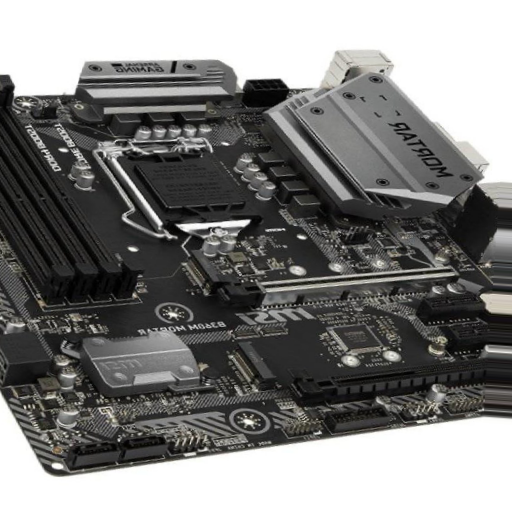CPU: (100, 139, 265, 242)
GPU: (217, 264, 459, 310), (289, 358, 484, 406)
MOTHERBOARD: (1, 85, 486, 477)
RAM: (1, 72, 144, 306)
SSD: (183, 251, 217, 291)
